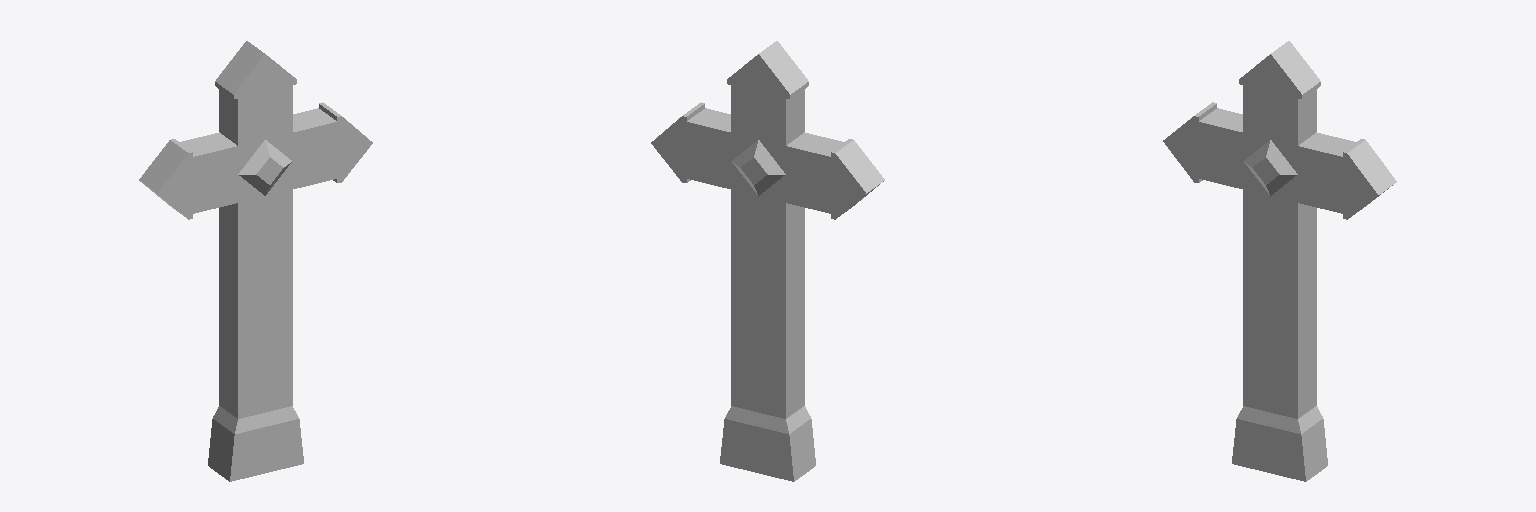
File: cross.obj
The picture shows the model from 3 angles: view 1: azimuth 30°, elevation 25°; view 2: azimuth 150°, elevation 25°; view 3: azimuth 330°, elevation 25°; orthographic projection.
Parts seen in each view (by area): view 1: cross; view 2: cross; view 3: cross.
Part boxes in pixels (bbox=[...]): cross: bbox=[139, 41, 372, 481]; cross: bbox=[651, 41, 884, 481]; cross: bbox=[1163, 41, 1396, 481].
Bounding box in the file's own units: 0.5355 × 0.99 × 0.12.